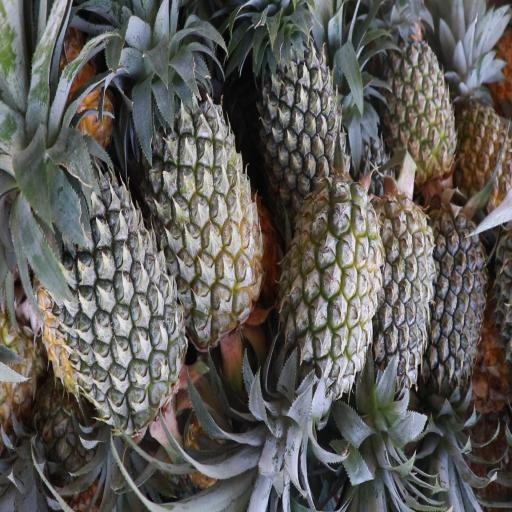------------------------------: (144, 96, 262, 338), (286, 176, 379, 375), (386, 36, 456, 184), (454, 64, 512, 205)
